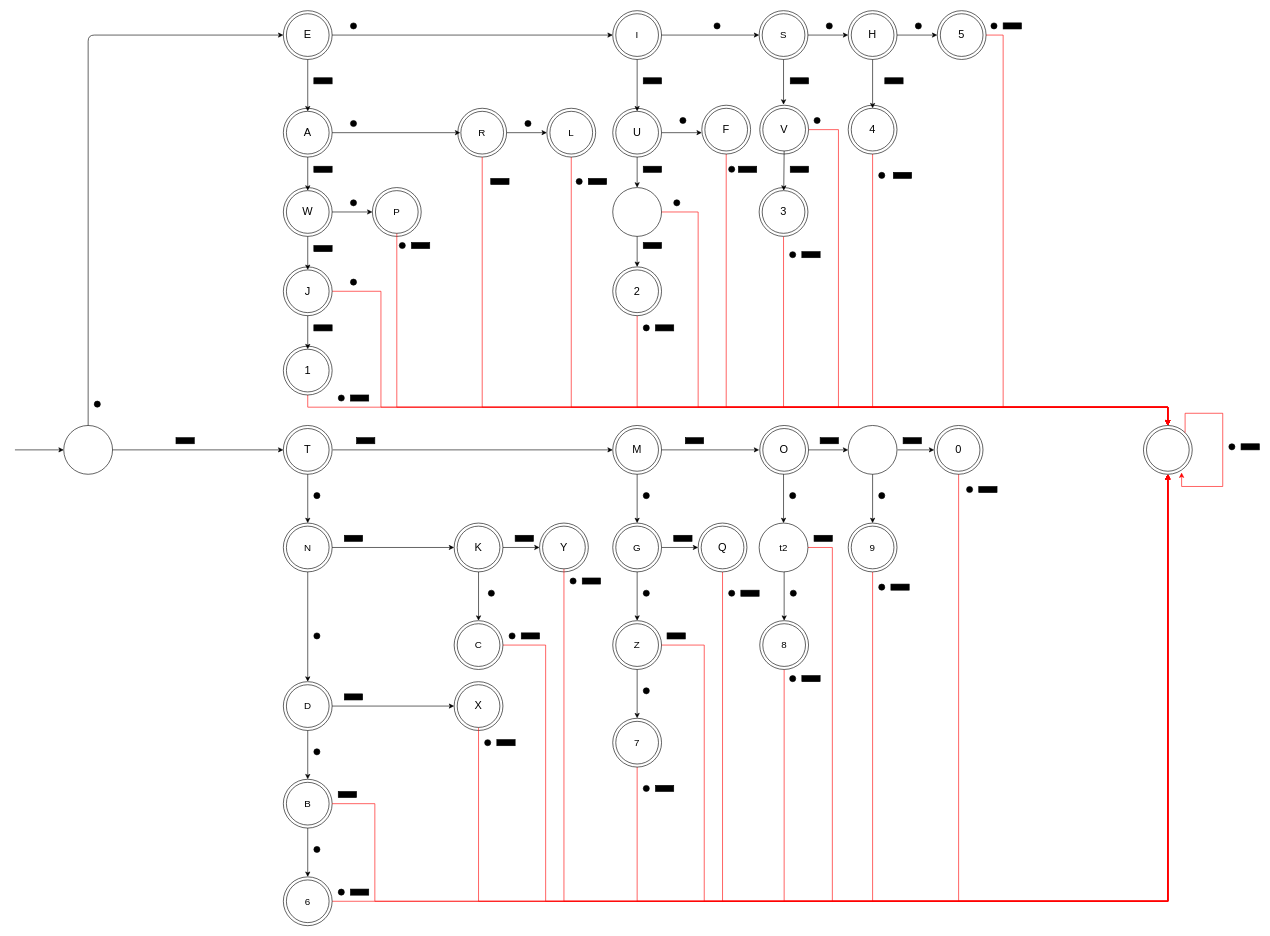
The diagram is 1270 pixels wide and 936 high, and some of its shapes have lost their labels. Each missing label, with the centre of its shape:
t0: [88,449]
t1: [637,211]
t3: [872,449]
trap: [1167,449]
